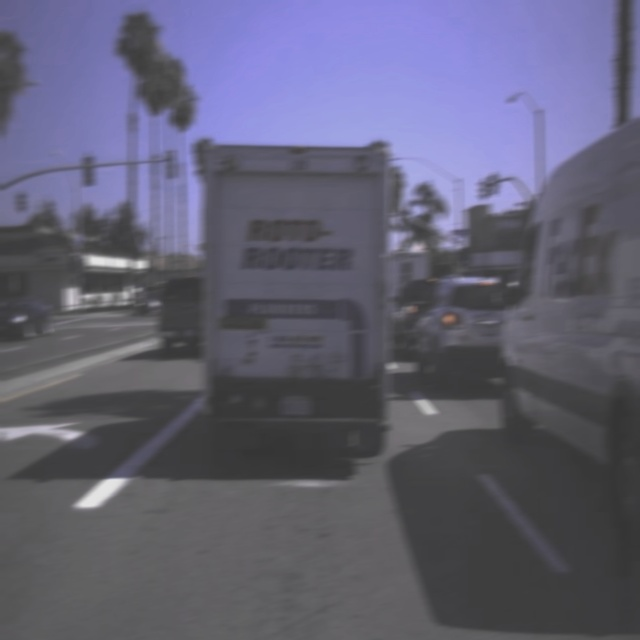go: (456, 240, 468, 267)
go traffic light: (456, 240, 468, 267)
